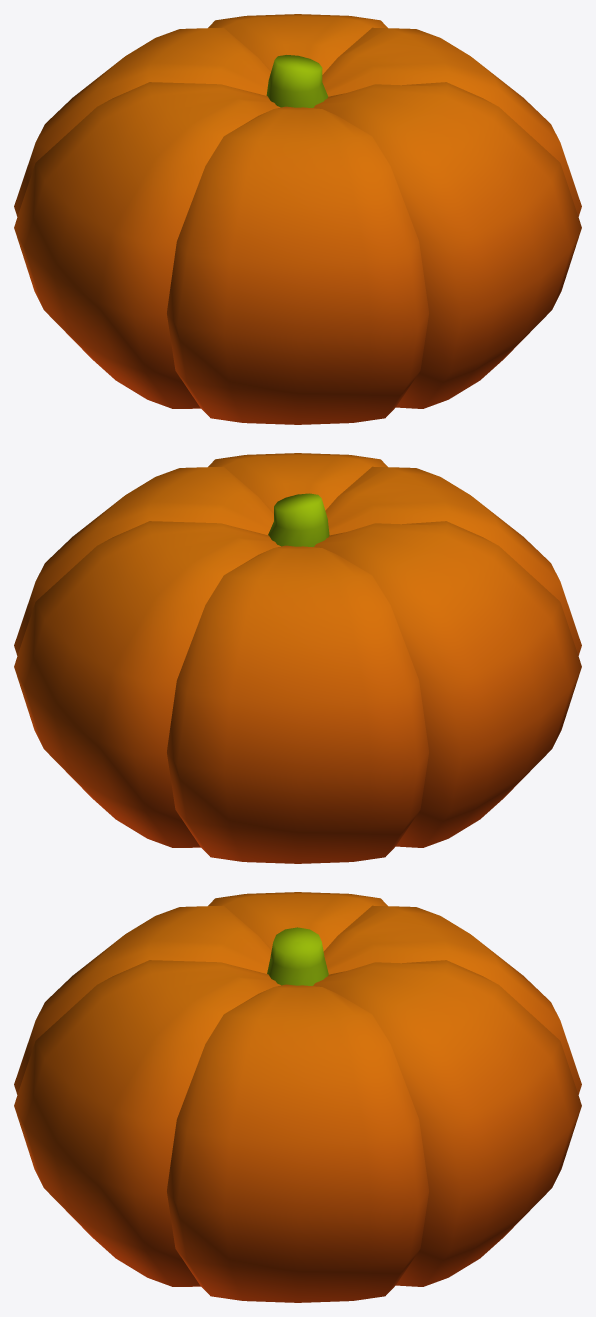
Rendered from Farm_Crop_Pumpkin_01.fbx.
3 renders of one model, top to bottom at view 1: azimuth 30°, elevation 25°; view 2: azimuth 150°, elevation 25°; view 3: azimuth 270°, elevation 25°, orthographic.
Visible parts, largest first — view 1: Farm_Crop_Pumpkin_01; view 2: Farm_Crop_Pumpkin_01; view 3: Farm_Crop_Pumpkin_01.
Part boxes in pixels (x1,y1,x2,y2): Farm_Crop_Pumpkin_01: (14, 14, 581, 424); Farm_Crop_Pumpkin_01: (14, 453, 581, 863); Farm_Crop_Pumpkin_01: (14, 892, 581, 1302).
Bounding box in the file's own units: 129 × 77.33 × 130.
